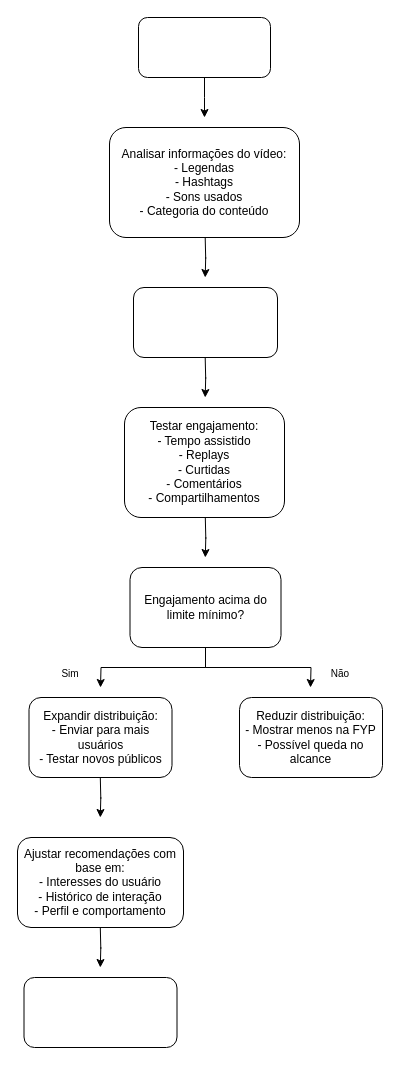
The diagram is 400 pixels wide and 1065 high, and some of its shapes have lost their labels. The box of each missing label's shape, as (x1, y1, x2, y2) in pixels:
Enviar para pequeno grupo de teste: (132, 286, 278, 358)
Vídeo continua sendo mostrado na for you até perder relevância: (23, 976, 177, 1048)
Vídeo novo enviado: (138, 16, 270, 78)
